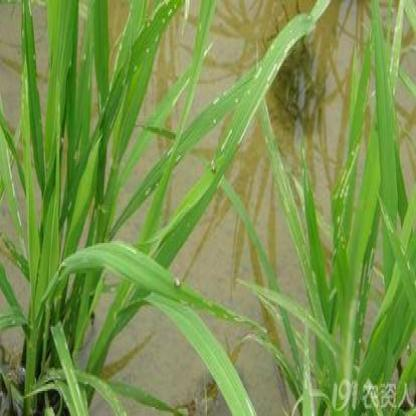rice-bug: (209, 154, 219, 177), (173, 274, 182, 290)
